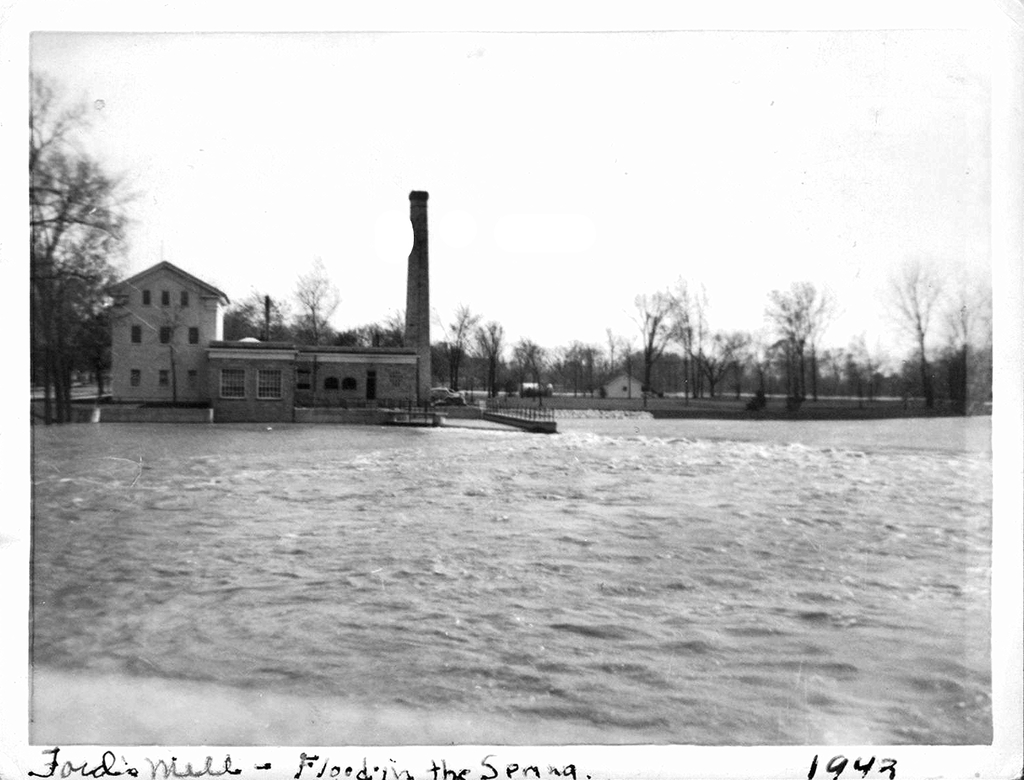Tree: (27, 66, 149, 425), (631, 270, 758, 411), (765, 273, 838, 413), (880, 259, 940, 412), (940, 261, 992, 419), (147, 300, 199, 403), (286, 255, 340, 343), (432, 300, 483, 392), (506, 331, 551, 408), (223, 291, 288, 342), (555, 338, 605, 399), (469, 319, 506, 395), (342, 305, 403, 347), (598, 328, 632, 373)
